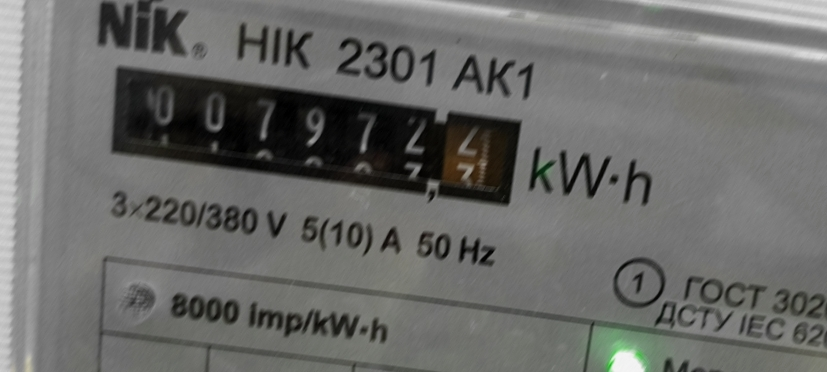0: (147, 81, 179, 125), (198, 87, 228, 132)
2: (400, 114, 429, 155), (452, 121, 480, 158)
3: (450, 159, 475, 187)
7: (347, 107, 379, 156), (247, 94, 278, 142)
9: (298, 102, 326, 147)
screen: (85, 48, 539, 224)
